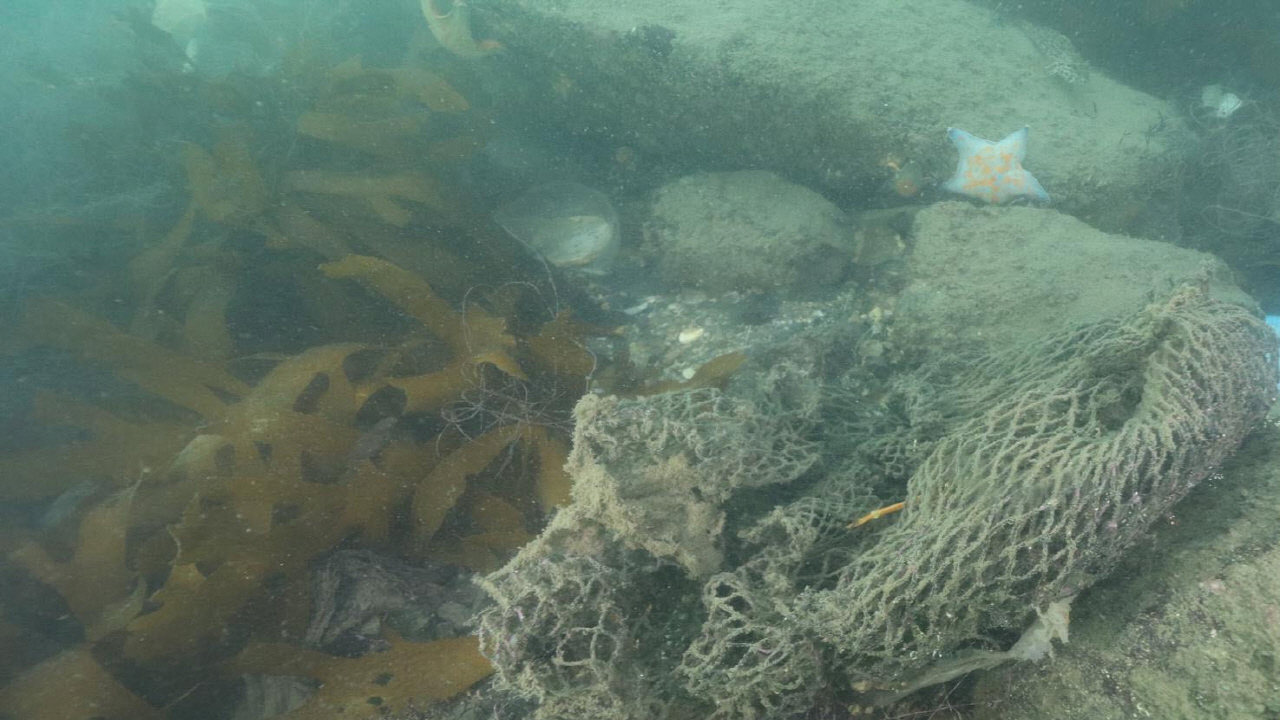fish net: (473, 288, 1280, 720)
